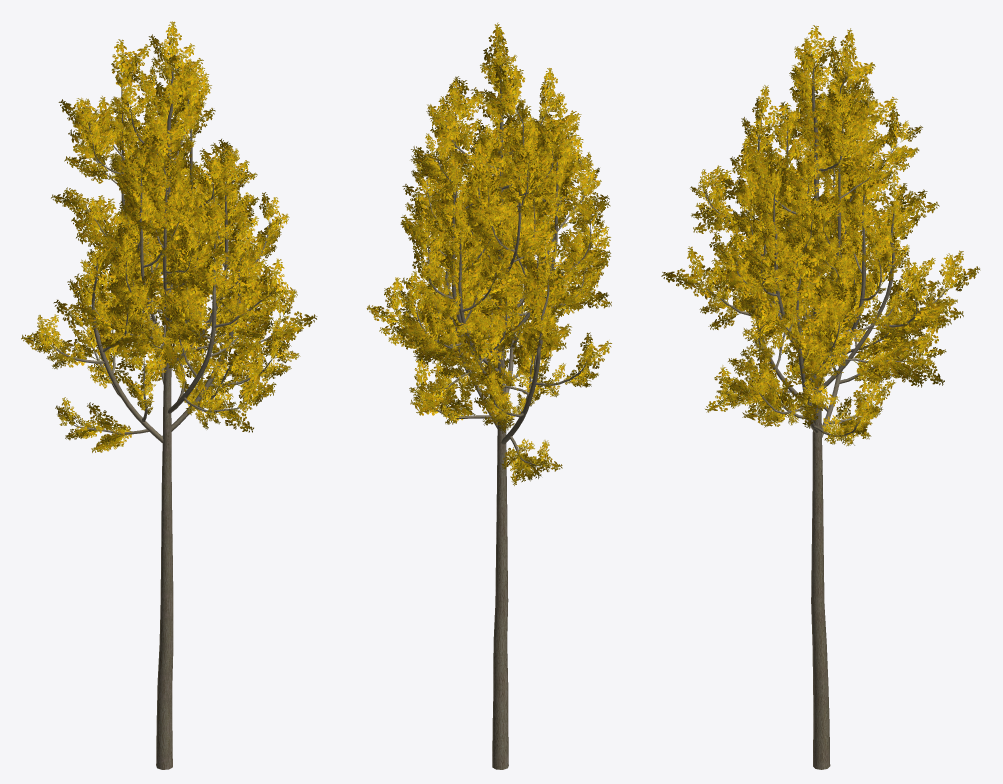
Rendered from aspen_large_01.glb.
The picture shows the model from 3 angles, left to right: view 1: azimuth 30°, elevation 25°; view 2: azimuth 150°, elevation 25°; view 3: azimuth 270°, elevation 25°; orthographic projection.
Visible parts, largest first — view 1: Tree; view 2: Tree; view 3: Tree.
Boxes of the visible parts, <box> form: Tree: <box>21,21,317,769</box>; Tree: <box>366,22,611,769</box>; Tree: <box>661,25,980,769</box>.
Size of the model in its own units: 40.84 by 105 by 42.69.
2 materials, 2 textured.
